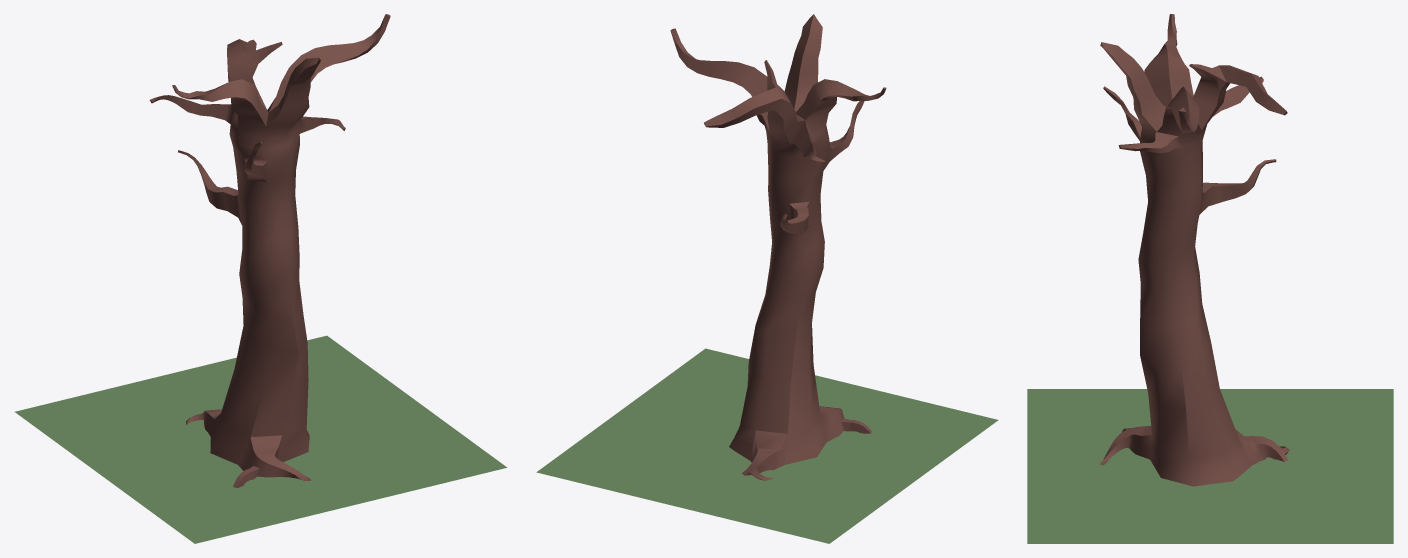
File: dead tree2.fbx
The picture shows the model from 3 angles, left to right: view 1: azimuth 30°, elevation 25°; view 2: azimuth 150°, elevation 25°; view 3: azimuth 270°, elevation 25°; orthographic projection. The views are drawn at different scales.
Visible parts, largest first — view 1: polySurface222; view 2: polySurface222; view 3: polySurface222.
Boxes of the visible parts, <box> form: polySurface222: <box>14,14,506,543</box>; polySurface222: <box>536,14,998,543</box>; polySurface222: <box>1027,14,1393,543</box>.
Bounding box in the file's own units: 2 × 2.64 × 2.
